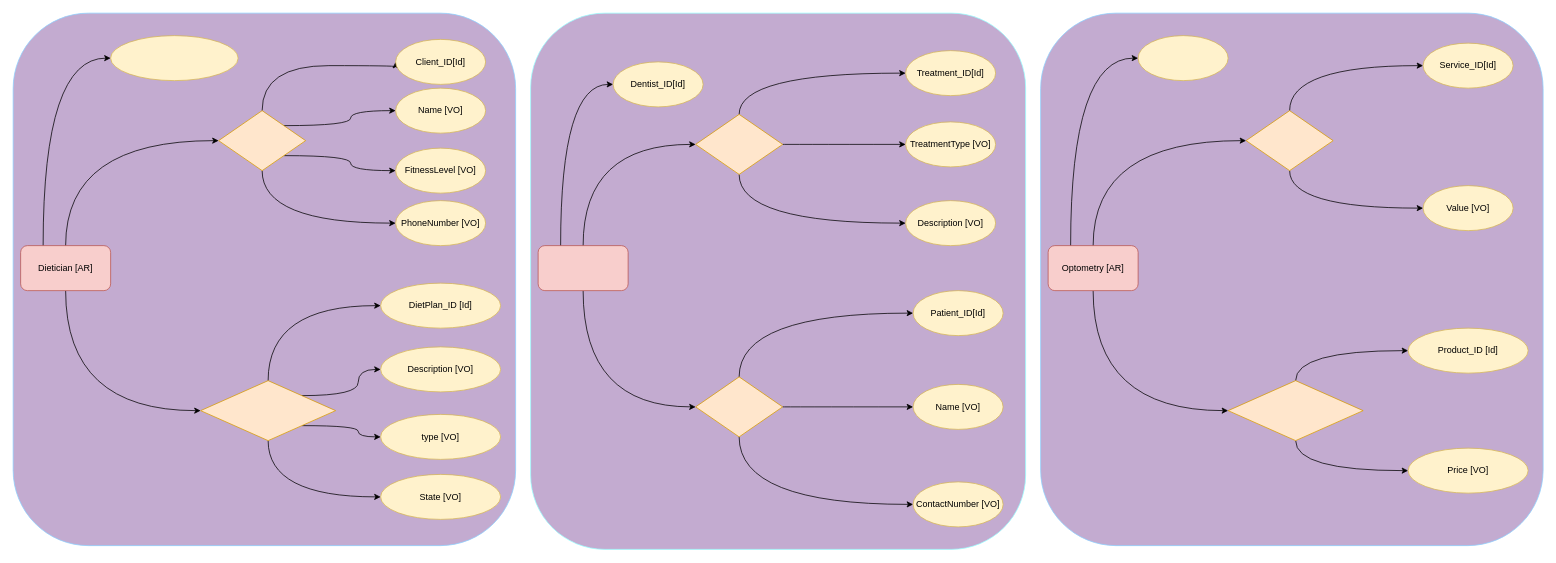
The diagram is 1556 pixels wide and 563 high, and some of its shapes have lost their labels. The centre of each missing label's shape, as x and y in pixels:
"Client [E]" belongs at (262,140).
"Dentist [ AR]" belongs at (582,268).
"DietPlan [E]" belongs at (268,410).
"Optometry_ID [Id]" belongs at (1182,58).
"Patient [E]" belongs at (739,406).
"Product [E]" belongs at (1295,410).
"Service [E]" belongs at (1289,140).
"Trainer_ID [Id]" belongs at (174,58).
"Treatment [E]" belongs at (739,144).
